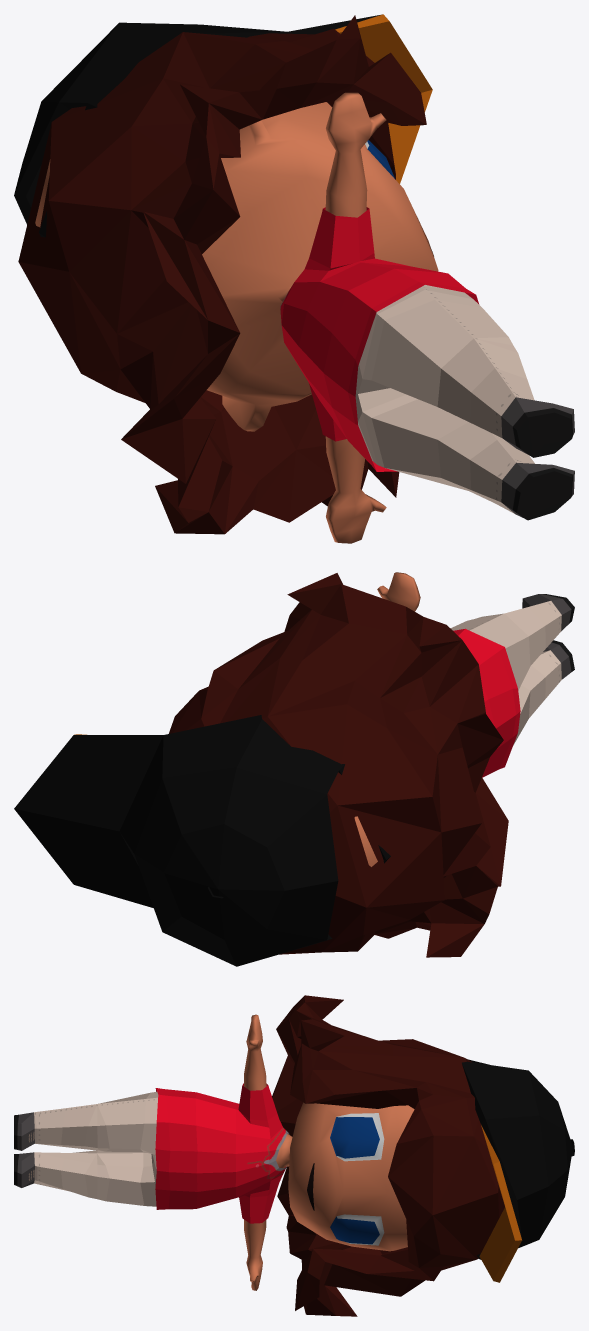
The picture shows the model from 3 angles, top to bottom: view 1: azimuth 30°, elevation 25°; view 2: azimuth 150°, elevation 25°; view 3: azimuth 270°, elevation 25°; orthographic projection. The views are drawn at different scales.
Parts seen in each view (by area): view 1: hair06, clothing, body, baseball_cap; view 2: hair06, baseball_cap, clothing, body; view 3: hair06, clothing, body, baseball_cap.
Part boxes in pixels (x1,y1,x2,y2): hair06: [18, 15, 426, 534]; clothing: [280, 207, 574, 520]; body: [35, 92, 438, 543]; baseball_cap: [14, 14, 432, 237]; hair06: [169, 573, 508, 957]; baseball_cap: [14, 715, 390, 966]; clothing: [451, 594, 574, 777]; body: [354, 572, 420, 866]; hair06: [272, 995, 504, 1316]; clothing: [14, 1083, 289, 1223]; body: [244, 1014, 414, 1290]; baseball_cap: [462, 1059, 574, 1282].
Size of the model in its own units: 113 by 110 by 189.
8 materials, 1 textured.
